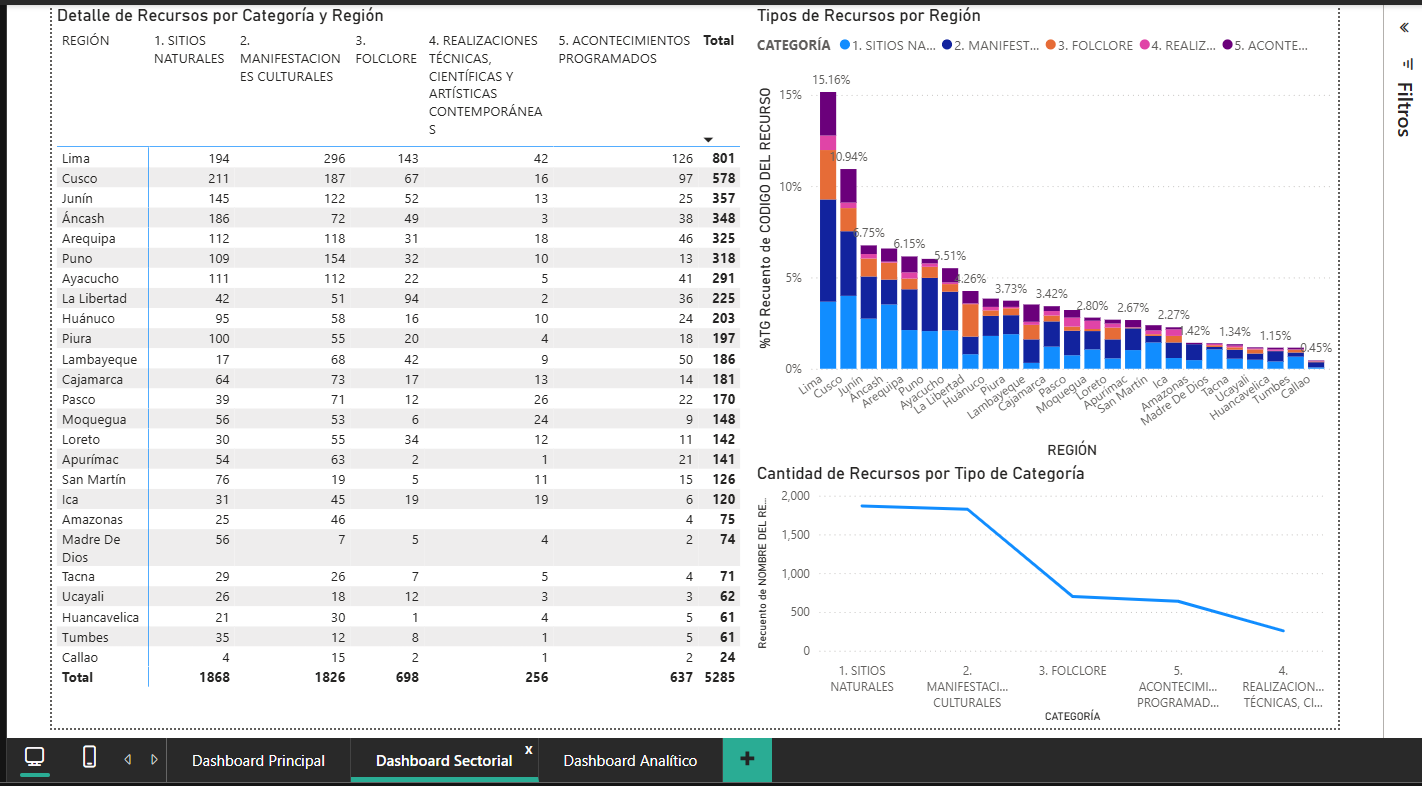

This screenshot's page, from the dashboard's own definition file:
{"tool":"powerbi","page":{"name":"Dashboard Sectorial","canvas":[1280,720],"ordinal":1},"visuals":[{"type":"columnChart","title":"Tipos de Recursos por Región","fields":{"Category":["Inventario_recursos_turisticos.REGIÓN"],"Y":["CountNonNull(Inventario_recursos_turisticos.CODIGO DEL RECURSO)"],"Series":["Inventario_recursos_turisticos.CATEGORÍA"]},"box":[697.1,0,582.9,455.7],"z":0},{"type":"pivotTable","title":"Detalle de Recursos por Categoría y Región","fields":{"Rows":["Inventario_recursos_turisticos.REGIÓN"],"Values":["CountNonNull(Inventario_recursos_turisticos.CODIGO DEL RECURSO)"],"Columns":["Inventario_recursos_turisticos.CATEGORÍA"]},"box":[0,0,697.1,694.3],"z":1000},{"type":"lineChart","title":"Cantidad de Recursos por Tipo de Categoría","fields":{"Category":["Inventario_recursos_turisticos.CATEGORÍA"],"Y":["CountNonNull(Inventario_recursos_turisticos.NOMBRE DEL RECURSO)"]},"box":[697.1,455.7,582.9,264.3],"z":2000}]}

Visuals, with their boxes on the page's 1280x720 design canvas (x1, y1, x2, y2). These are canvas units, not pixel positions in the 1422x786 screenshot, which may show the page scaled, cropped or inside an application window:
"Tipos de Recursos por Región" columnChart: (697, 0, 1280, 456)
"Detalle de Recursos por Categoría y Región" pivotTable: (0, 0, 697, 694)
"Cantidad de Recursos por Tipo de Categoría" lineChart: (697, 456, 1280, 720)
